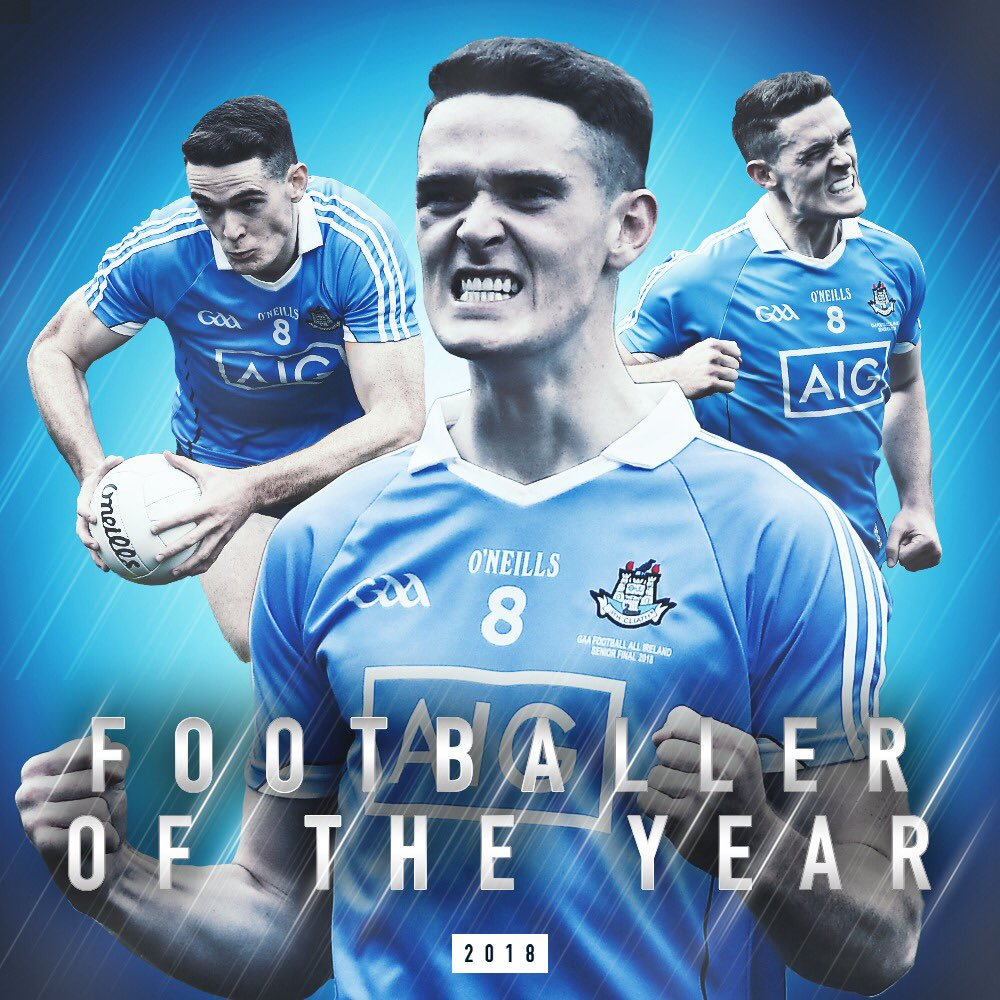ball: (82, 447, 214, 585)
player: (294, 48, 870, 975), (125, 111, 412, 573), (651, 63, 932, 526)
